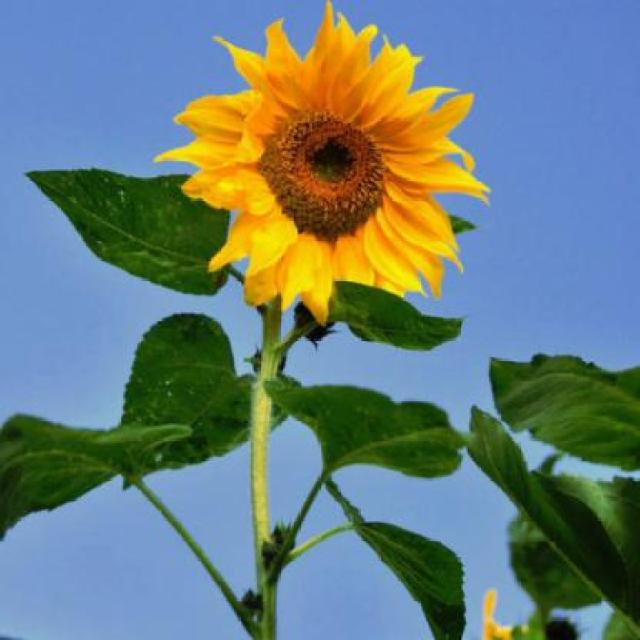sunflower: (174, 0, 483, 329)
